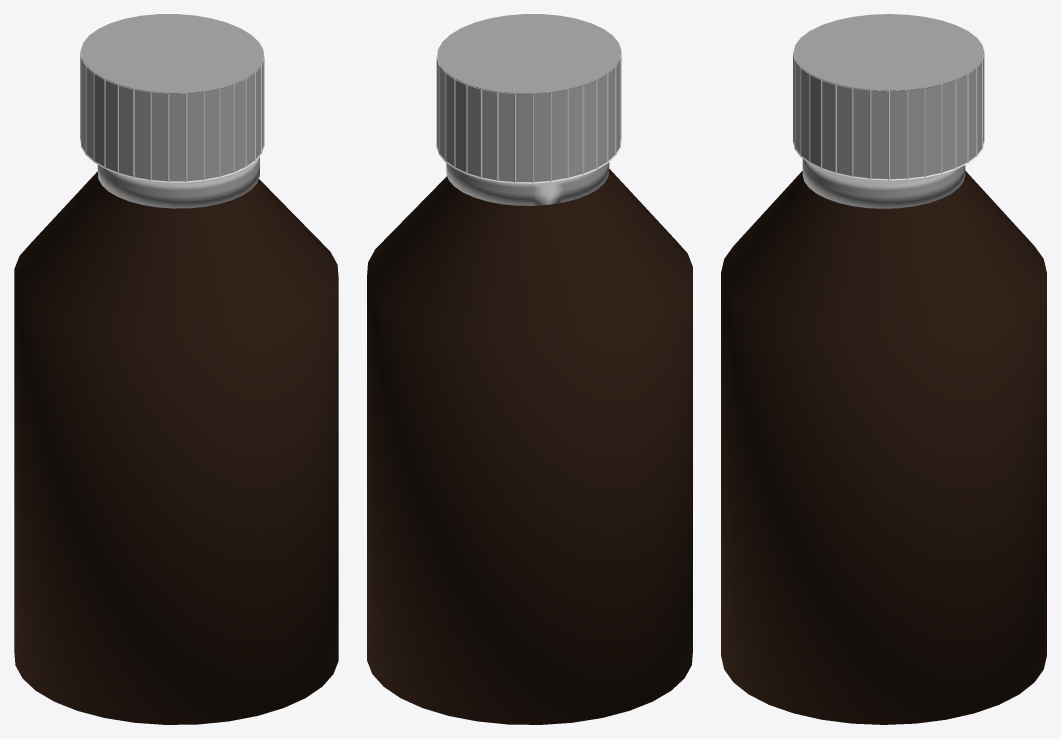
The picture shows the model from 3 angles, left to right: view 1: azimuth 30°, elevation 25°; view 2: azimuth 150°, elevation 25°; view 3: azimuth 270°, elevation 25°; orthographic projection.
Parts seen in each view (by area): view 1: Cylinder, Cylinder.001, Cylinder.003, Cylinder.002; view 2: Cylinder, Cylinder.001, Cylinder.003, Cylinder.002; view 3: Cylinder, Cylinder.001, Cylinder.003, Cylinder.002.
Boxes of the visible parts, left/top/right/bottom form: Cylinder: left=14, top=171, right=338, bottom=724; Cylinder.001: left=81, top=14, right=263, bottom=181; Cylinder.003: left=97, top=157, right=259, bottom=208; Cylinder.002: left=80, top=35, right=264, bottom=182; Cylinder: left=367, top=169, right=692, bottom=724; Cylinder.001: left=437, top=14, right=620, bottom=182; Cylinder.003: left=446, top=162, right=609, bottom=205; Cylinder.002: left=436, top=34, right=621, bottom=183; Cylinder: left=721, top=171, right=1046, bottom=724; Cylinder.001: left=793, top=14, right=983, bottom=178; Cylinder.003: left=802, top=159, right=965, bottom=208; Cylinder.002: left=793, top=38, right=984, bottom=180.
Size of the model in its own units: 40 by 81.7 by 40.
